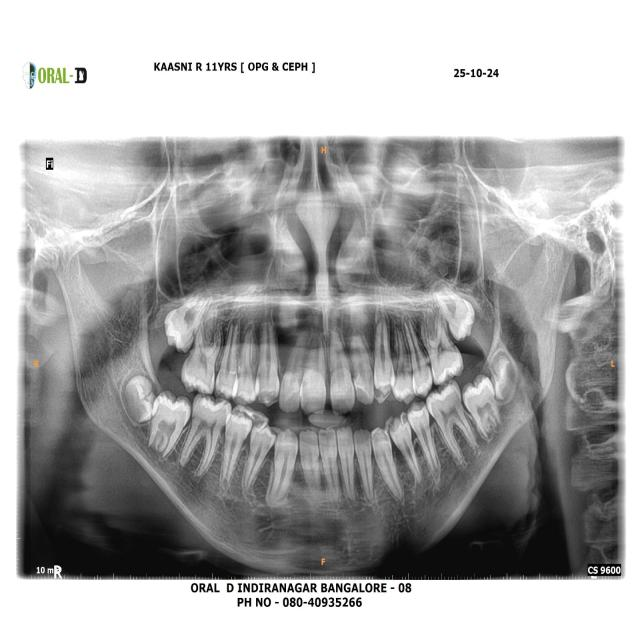Premolars: (408, 401, 444, 486), (386, 414, 426, 488)
